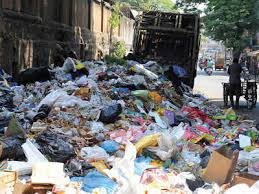garbage: (2, 72, 168, 194), (85, 84, 209, 194), (69, 59, 165, 194), (137, 110, 259, 192)
